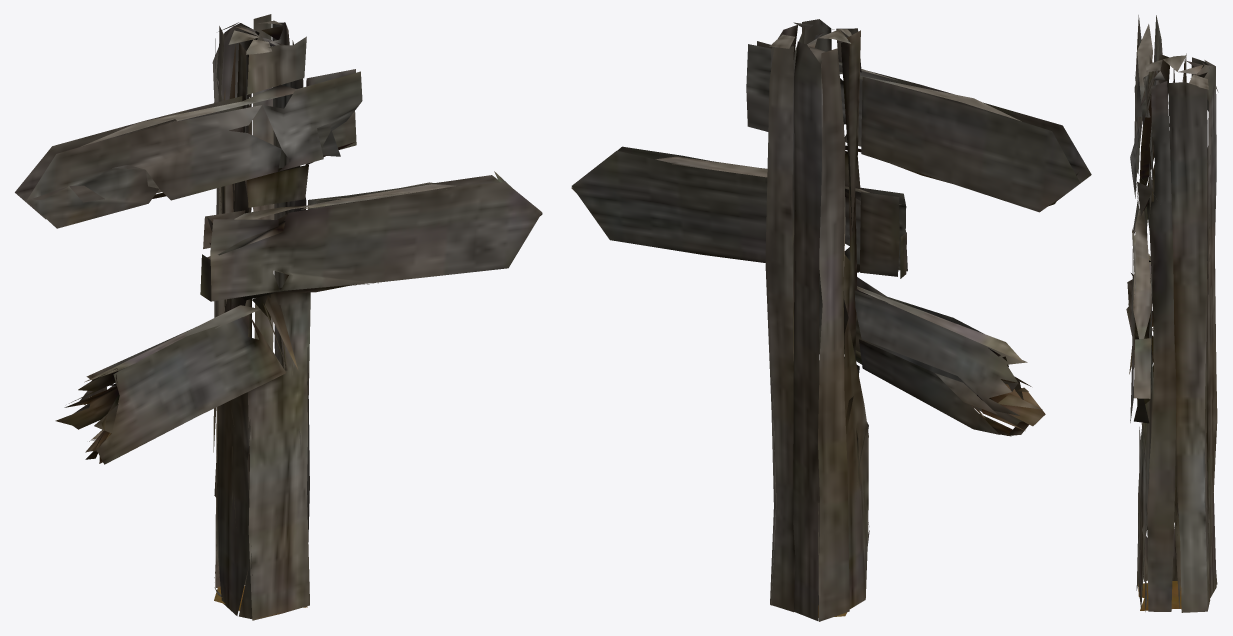
Rendered from wald_wegweiser_lo.glb.
3 views of the same model, side by side, from view 1: azimuth 30°, elevation 25°; view 2: azimuth 150°, elevation 25°; view 3: azimuth 270°, elevation 25° (orthographic). The views are drawn at different scales.
Visible parts, largest first — view 1: Prop; view 2: Prop; view 3: Prop.
Part boxes in pixels (x1,y1,x2,y2): Prop: (15,14,542,620); Prop: (571,19,1091,621); Prop: (1126,15,1218,612).
Bounding box in the file's own units: 0.9475 × 1.02 × 0.1679.
1 material, 1 textured.
